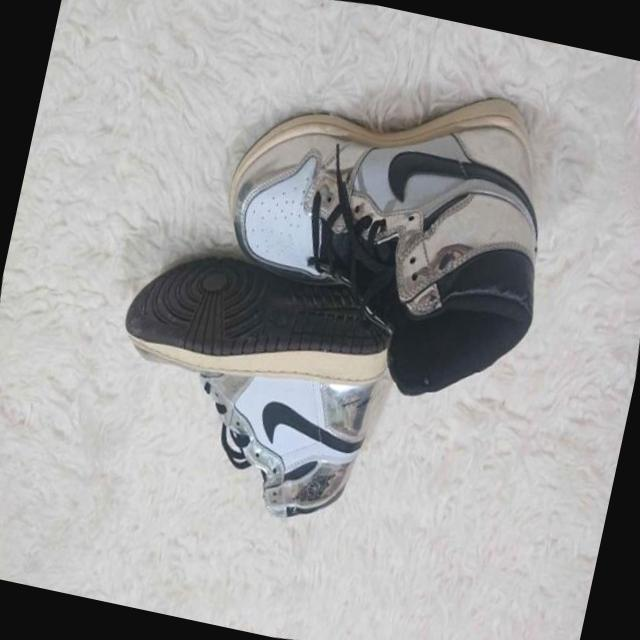nike_fake_jordan: (180, 41, 584, 438), (78, 218, 422, 556)
